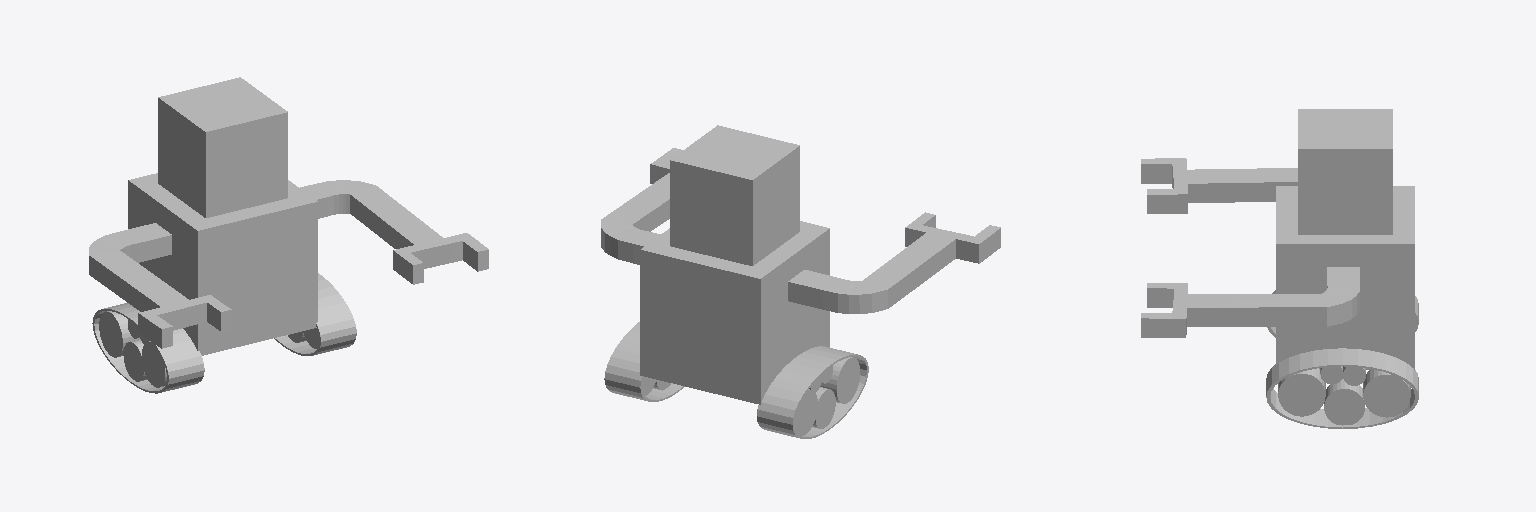
File: Robot.obj
3 views of the same model, side by side, from view 1: azimuth 30°, elevation 25°; view 2: azimuth 150°, elevation 25°; view 3: azimuth 270°, elevation 25° (orthographic).
Parts seen in each view (by area): view 1: Cylinder_Cylinder.001; view 2: Cylinder_Cylinder.001; view 3: Cylinder_Cylinder.001.
Part boxes in pixels (x1,y1,x2,y2): Cylinder_Cylinder.001: (89, 77, 488, 393); Cylinder_Cylinder.001: (601, 125, 1000, 438); Cylinder_Cylinder.001: (1141, 109, 1418, 428).
Bounding box in the file's own units: 5.14 × 3.79 × 3.76.